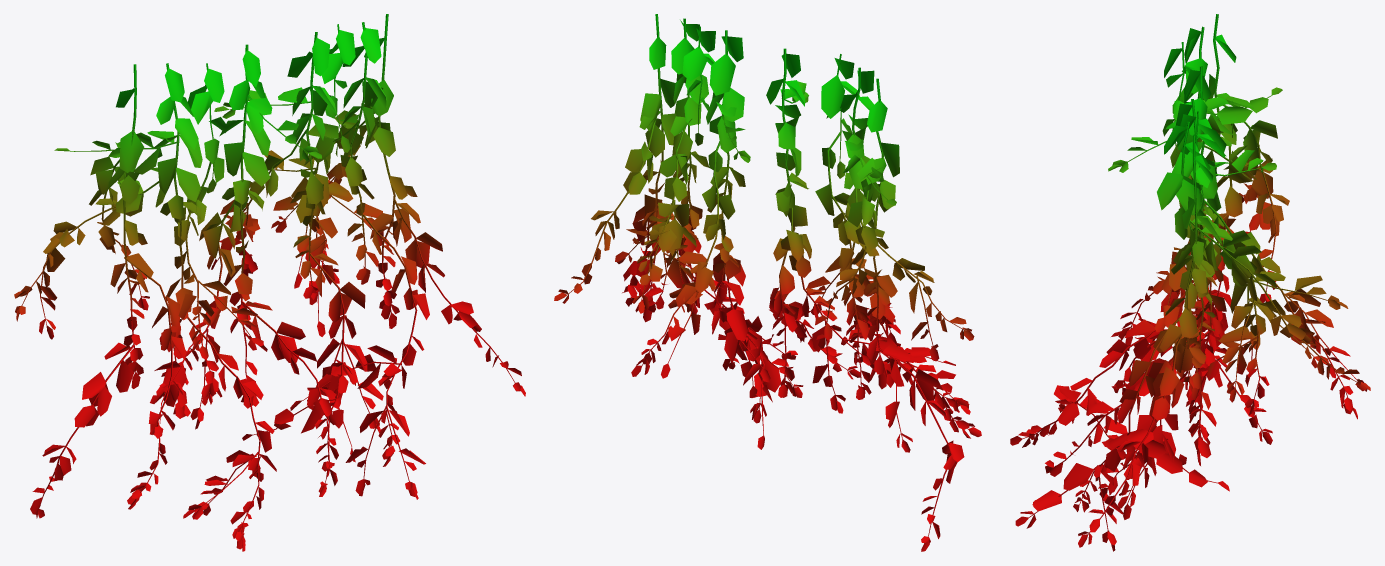
Rendered from Var11_LOD3.fbx.
The picture shows the model from 3 angles, left to right: view 1: azimuth 30°, elevation 25°; view 2: azimuth 150°, elevation 25°; view 3: azimuth 270°, elevation 25°; orthographic projection. The views are drawn at different scales.
Parts seen in each view (by area): view 1: _m0si_Var11_LOD3; view 2: _m0si_Var11_LOD3; view 3: _m0si_Var11_LOD3.
Boxes of the visible parts, box(x1,y1,x2,y2) form: _m0si_Var11_LOD3: box(14, 14, 525, 551); _m0si_Var11_LOD3: box(554, 14, 981, 551); _m0si_Var11_LOD3: box(1010, 14, 1370, 551).
Size of the model in its own units: 109 by 109 by 76.38.
